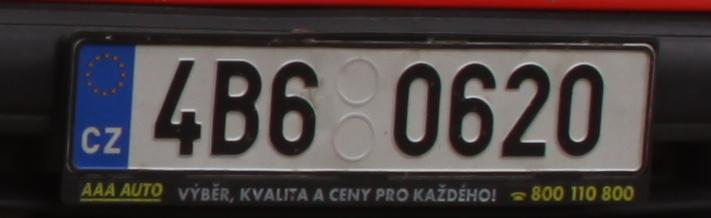0: (557, 65, 602, 156), (397, 62, 438, 155)
2: (504, 63, 550, 157)
4: (156, 58, 201, 157)
6: (271, 61, 315, 158), (451, 65, 494, 158)
B: (213, 62, 259, 156)
